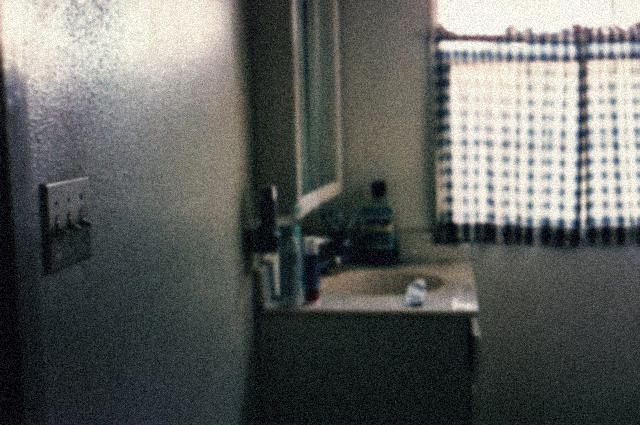Lavamanos: (264, 219, 455, 311)
